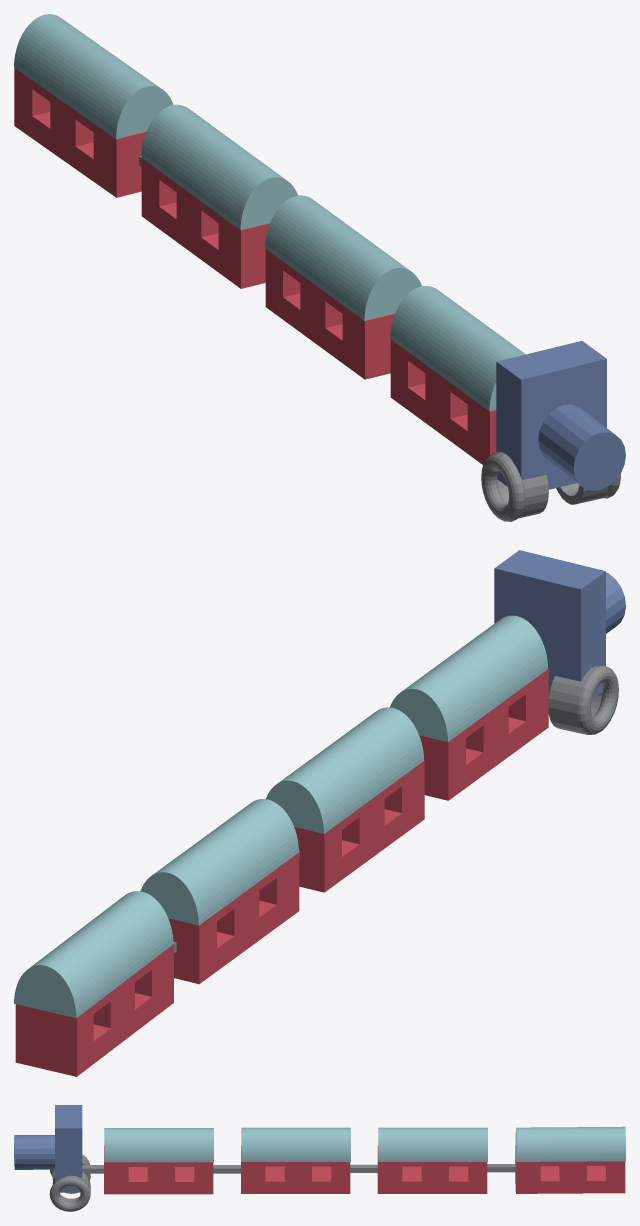
Rendered from ShinyMaimu.glb.
3 renders of one model, top to bottom at view 1: azimuth 30°, elevation 25°; view 2: azimuth 150°, elevation 25°; view 3: azimuth 270°, elevation 25°, orthographic. The views are drawn at different scales.
Visible parts, largest first — view 1: Mesh_Mesh_head_geo.001_lambert2SG.001; view 2: Mesh_Mesh_head_geo.001_lambert2SG.001; view 3: Mesh_Mesh_head_geo.001_lambert2SG.001.
Boxes of the visible parts, x1,y1,x2,y2 form: Mesh_Mesh_head_geo.001_lambert2SG.001: (14,14,625,521); Mesh_Mesh_head_geo.001_lambert2SG.001: (14,550,625,1076); Mesh_Mesh_head_geo.001_lambert2SG.001: (14,1105,625,1211).
Size of the model in its own units: 25.7 by 33.09 by 223.
